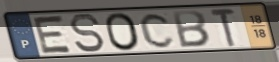B: (171, 10, 212, 49)
C: (139, 12, 178, 50)
E: (31, 14, 74, 55)
O: (103, 11, 143, 52)
S: (67, 12, 107, 54)
T: (208, 8, 238, 48)
